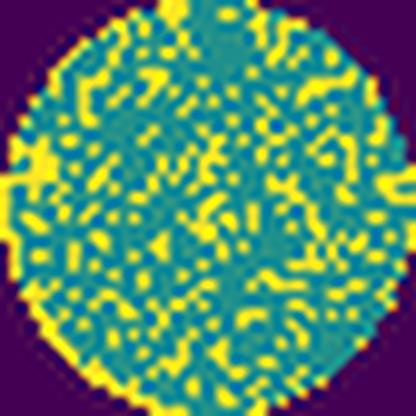Edge-Loc: (14, 280, 195, 415), (0, 130, 64, 277), (375, 147, 415, 216), (152, 0, 192, 24)
